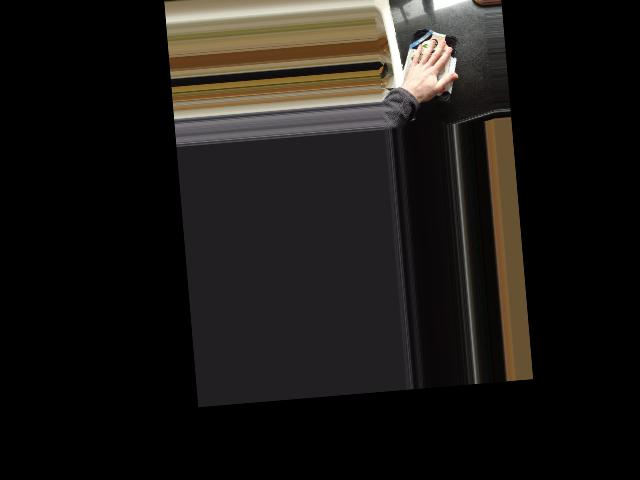cheese: (392, 24, 464, 106)
